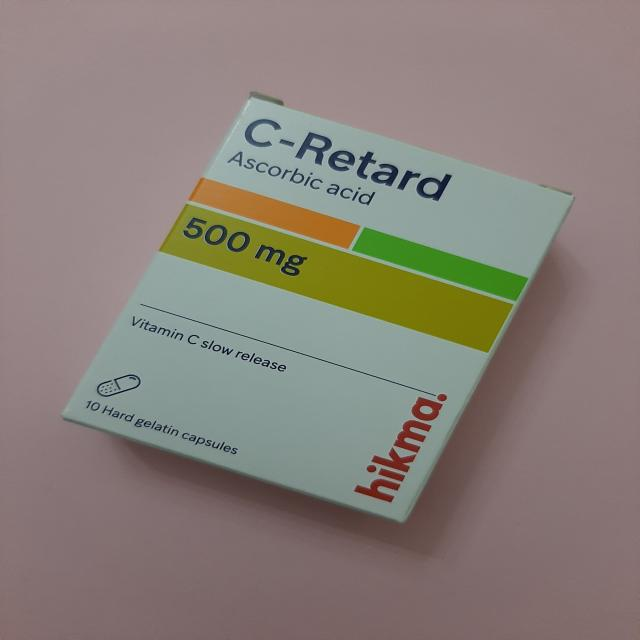C-Retard: (48, 90, 589, 551)
